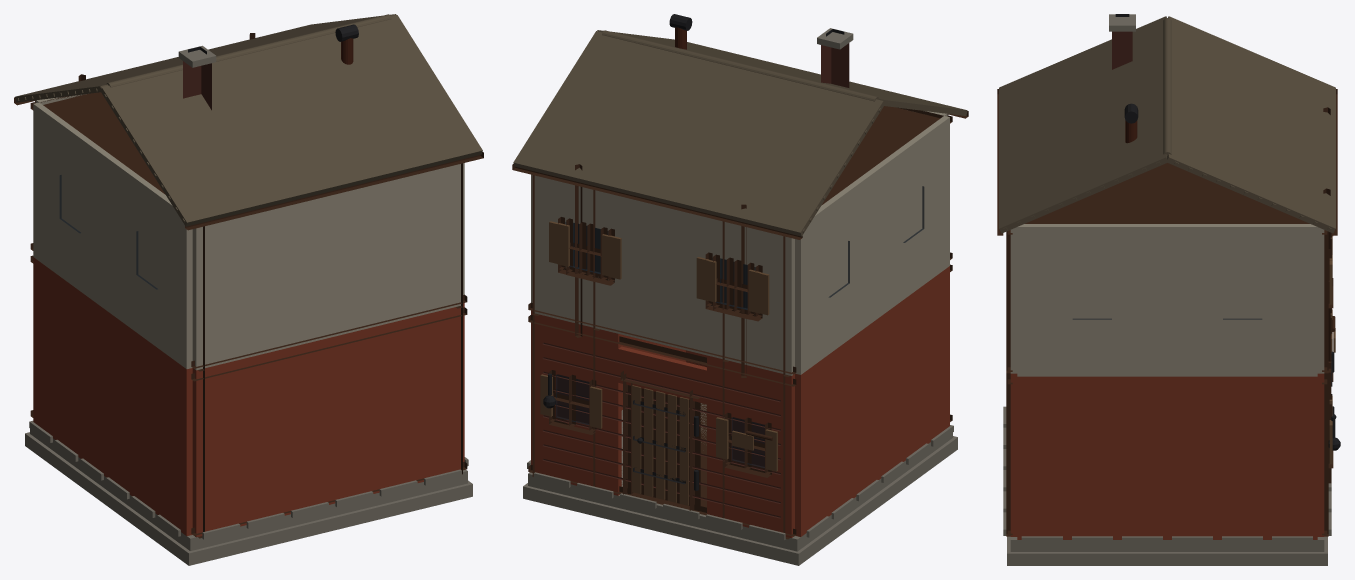
Rendered from GalakasMidCity_MerchantStandard_W04D04_F01_R01U01L01_A01.obj.
3 renders of one model, left to right at view 1: azimuth 30°, elevation 25°; view 2: azimuth 150°, elevation 25°; view 3: azimuth 270°, elevation 25°, orthographic. The views are drawn at different scales.
Parts seen in each view (by area): view 1: GalakasMidCity_MerchantStandard_W04D04_F01_R01U01L01_A01_upper1_, GalakasMidCity_MerchantStandard_W04D04_F01_R01U01L01_A01_roof_ba, GalakasMidCity_MerchantStandard_W04D04_F01_R01U01L01_A01_lower_b, GalakasMidCity_MerchantStandard_W04D04_F01_R01U01L01_A01_lower_l, stone_plinth_base, stone_plinth_raised, GalakasMidCity_MerchantStandard_W04D04_F01_R01U01L01_A01_roof_fr, GalakasMidCity_MerchantStandard_W04D04_F01_R01U01L01_A01_chimney, GalakasMidCity_MerchantStandard_W04D04_F01_R01U01L01_A01_roof_ri; view 2: GalakasMidCity_MerchantStandard_W04D04_F01_R01U01L01_A01_upper1_, GalakasMidCity_MerchantStandard_W04D04_F01_R01U01L01_A01_roof_fr, GalakasMidCity_MerchantStandard_W04D04_F01_R01U01L01_A01_lower_f, GalakasMidCity_MerchantStandard_W04D04_F01_R01U01L01_A01_lower_l, GalakasMidCity_MerchantStandard_W04D04_F01_R01U01L01_A01_lower_m, stone_plinth_base, GalakasMidCity_MerchantStandard_W04D04_F01_R01U01L01_A01_brick_f, stone_plinth_raised, GalakasMidCity_MerchantStandard_W04D04_F01_R01U01L01_A01_roof_ba, GalakasMidCity_MerchantStandard_W04D04_F01_R01U01L01_A01_chimney, GalakasMidCity_MerchantStandard_W04D04_F01_R01U01L01_A01_roof_ri, GalakasMidCity_MerchantStandard_W04D04_F01_R01U01L01_A01_diag_br (+1 smaller); view 3: GalakasMidCity_MerchantStandard_W04D04_F01_R01U01L01_A01_upper1_, GalakasMidCity_MerchantStandard_W04D04_F01_R01U01L01_A01_lower_r, GalakasMidCity_MerchantStandard_W04D04_F01_R01U01L01_A01_roof_fr, GalakasMidCity_MerchantStandard_W04D04_F01_R01U01L01_A01_roof_ba, stone_plinth_base, stone_plinth_raised, GalakasMidCity_MerchantStandard_W04D04_F01_R01U01L01_A01_lower_f, GalakasMidCity_MerchantStandard_W04D04_F01_R01U01L01_A01_lower_b, GalakasMidCity_MerchantStandard_W04D04_F01_R01U01L01_A01_chimney, GalakasMidCity_MerchantStandard_W04D04_F01_R01U01L01_A01_roof_ri.
Part boxes in pixels (bbox=[...]): GalakasMidCity_MerchantStandard_W04D04_F01_R01U01L01_A01_upper1_: bbox=[30, 92, 467, 371]; GalakasMidCity_MerchantStandard_W04D04_F01_R01U01L01_A01_roof_ba: bbox=[101, 15, 483, 230]; GalakasMidCity_MerchantStandard_W04D04_F01_R01U01L01_A01_lower_b: bbox=[191, 307, 467, 538]; GalakasMidCity_MerchantStandard_W04D04_F01_R01U01L01_A01_lower_l: bbox=[33, 257, 192, 535]; stone_plinth_base: bbox=[25, 432, 472, 565]; stone_plinth_raised: bbox=[30, 420, 467, 550]; GalakasMidCity_MerchantStandard_W04D04_F01_R01U01L01_A01_roof_fr: bbox=[14, 14, 396, 105]; GalakasMidCity_MerchantStandard_W04D04_F01_R01U01L01_A01_chimney: bbox=[178, 24, 358, 110]; GalakasMidCity_MerchantStandard_W04D04_F01_R01U01L01_A01_roof_ri: bbox=[106, 14, 391, 87]; GalakasMidCity_MerchantStandard_W04D04_F01_R01U01L01_A01_upper1_: bbox=[528, 106, 952, 376]; GalakasMidCity_MerchantStandard_W04D04_F01_R01U01L01_A01_roof_fr: bbox=[512, 31, 884, 239]; GalakasMidCity_MerchantStandard_W04D04_F01_R01U01L01_A01_lower_f: bbox=[528, 314, 796, 539]; GalakasMidCity_MerchantStandard_W04D04_F01_R01U01L01_A01_lower_l: bbox=[795, 266, 949, 536]; GalakasMidCity_MerchantStandard_W04D04_F01_R01U01L01_A01_lower_m: bbox=[620, 371, 700, 510]; stone_plinth_base: bbox=[523, 436, 957, 565]; GalakasMidCity_MerchantStandard_W04D04_F01_R01U01L01_A01_brick_f: bbox=[542, 342, 780, 518]; stone_plinth_raised: bbox=[528, 403, 952, 551]; GalakasMidCity_MerchantStandard_W04D04_F01_R01U01L01_A01_roof_ba: bbox=[597, 30, 968, 118]; GalakasMidCity_MerchantStandard_W04D04_F01_R01U01L01_A01_chimney: bbox=[669, 14, 853, 87]; GalakasMidCity_MerchantStandard_W04D04_F01_R01U01L01_A01_roof_ri: bbox=[602, 30, 878, 101]; GalakasMidCity_MerchantStandard_W04D04_F01_R01U01L01_A01_diag_br: bbox=[575, 164, 746, 377]; GalakasMidCity_MerchantStandard_W04D04_F01_R01U01L01_A01_upper1_: bbox=[1006, 163, 1333, 376]; GalakasMidCity_MerchantStandard_W04D04_F01_R01U01L01_A01_lower_r: bbox=[1017, 376, 1317, 539]; GalakasMidCity_MerchantStandard_W04D04_F01_R01U01L01_A01_roof_fr: bbox=[1166, 16, 1337, 235]; GalakasMidCity_MerchantStandard_W04D04_F01_R01U01L01_A01_roof_ba: bbox=[997, 16, 1168, 235]; stone_plinth_base: bbox=[1007, 536, 1327, 565]; stone_plinth_raised: bbox=[1010, 537, 1324, 551]; GalakasMidCity_MerchantStandard_W04D04_F01_R01U01L01_A01_lower_f: bbox=[1317, 308, 1333, 536]; GalakasMidCity_MerchantStandard_W04D04_F01_R01U01L01_A01_lower_b: bbox=[1006, 373, 1017, 536]; GalakasMidCity_MerchantStandard_W04D04_F01_R01U01L01_A01_chimney: bbox=[1109, 14, 1138, 143]; GalakasMidCity_MerchantStandard_W04D04_F01_R01U01L01_A01_roof_ri: bbox=[1163, 18, 1171, 155].
Bounding box in the file's own units: 8.95 × 13.1 × 9.14.
